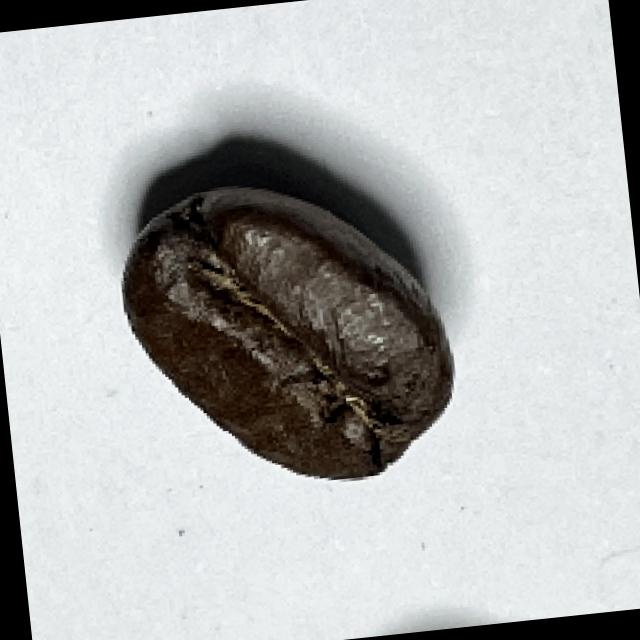bean: (108, 165, 462, 502)
